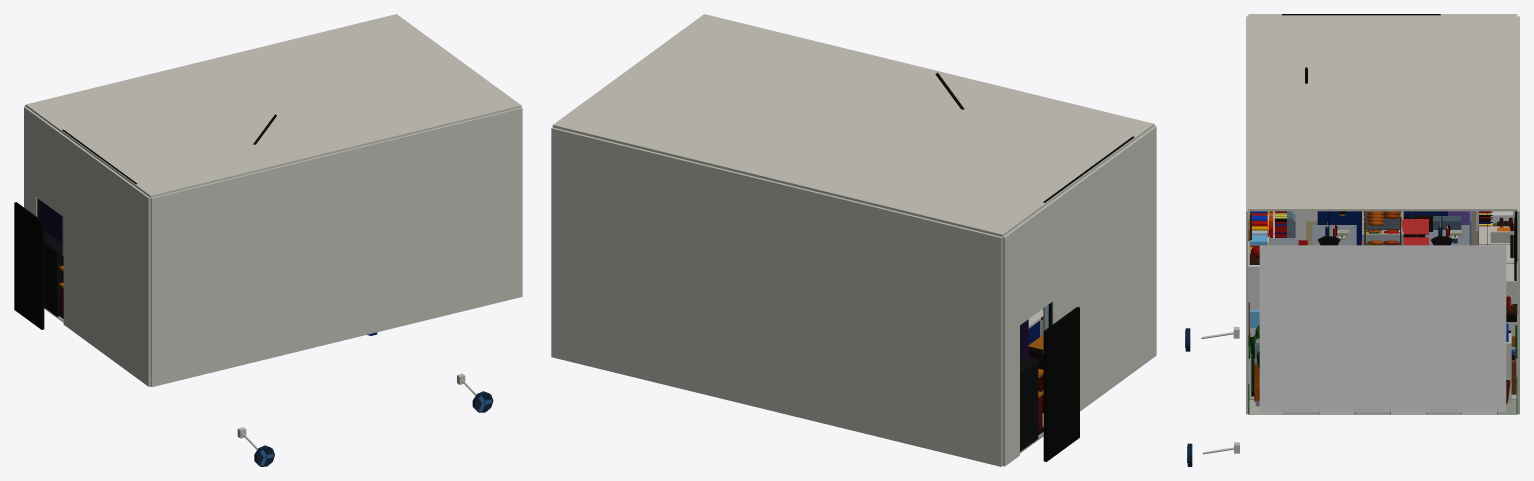
The model's file is OW_NoiThat_5_0.fbx.
The picture shows the model from 3 angles, left to right: view 1: azimuth 30°, elevation 25°; view 2: azimuth 150°, elevation 25°; view 3: azimuth 270°, elevation 25°; orthographic projection. The views are drawn at different scales.
Visible parts, largest first — view 1: NT_BachHoa, NT_TiemVang, NT_ThoiTrang, NT_BunBoHue; view 2: NT_BachHoa, NT_TiemVang; view 3: NT_BachHoa, NT_BachHoa_Xa, NT_BunBoHue, NT_NhaThuoc, NT_BanhMi, NT_ThoiTrang, NT_CaPhe, NT_DienThoai, NT_SuaXe, NT_NhaO_ViVong, NT_NhaO_PhongKhach, NT_NhaO_Salon (+2 smaller).
Part boxes in pixels (x1=…): NT_BachHoa: x1=14, y1=14, x2=522, y2=386; NT_TiemVang: x1=44, y1=216, x2=63, y2=316; NT_ThoiTrang: x1=41, y1=201, x2=62, y2=242; NT_BunBoHue: x1=237, y1=332, x2=377, y2=466; NT_BachHoa: x1=551, y1=14, x2=1156, y2=466; NT_TiemVang: x1=1020, y1=305, x2=1048, y2=451; NT_BachHoa: x1=1246, y1=14, x2=1519, y2=414; NT_BachHoa_Xa: x1=1259, y1=245, x2=1506, y2=412; NT_BunBoHue: x1=1185, y1=221, x2=1517, y2=405; NT_NhaThuoc: x1=1248, y1=211, x2=1511, y2=402; NT_BanhMi: x1=1254, y1=211, x2=1513, y2=406; NT_ThoiTrang: x1=1269, y1=211, x2=1515, y2=346; NT_CaPhe: x1=1248, y1=211, x2=1516, y2=358; NT_DienThoai: x1=1248, y1=211, x2=1514, y2=245; NT_SuaXe: x1=1187, y1=211, x2=1517, y2=466; NT_NhaO_ViVong: x1=1402, y1=211, x2=1487, y2=245; NT_NhaO_PhongKhach: x1=1249, y1=211, x2=1461, y2=388; NT_NhaO_Salon: x1=1403, y1=215, x2=1516, y2=404.
Size of the model in its own units: 8.28 by 5.92 by 5.65.
